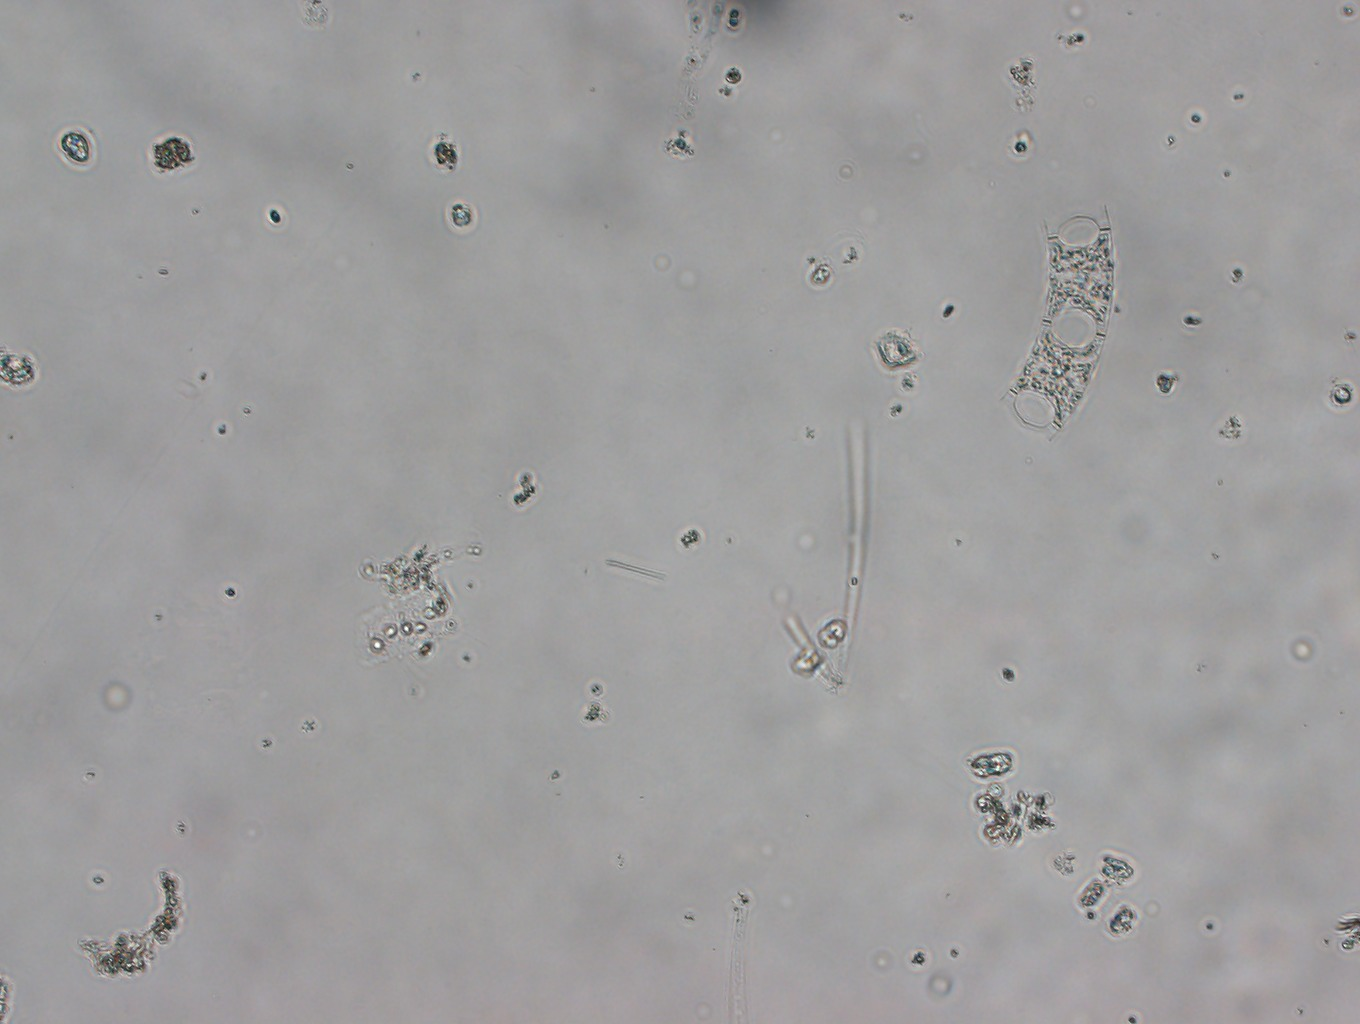eucampia: (1000, 202, 1130, 450)
